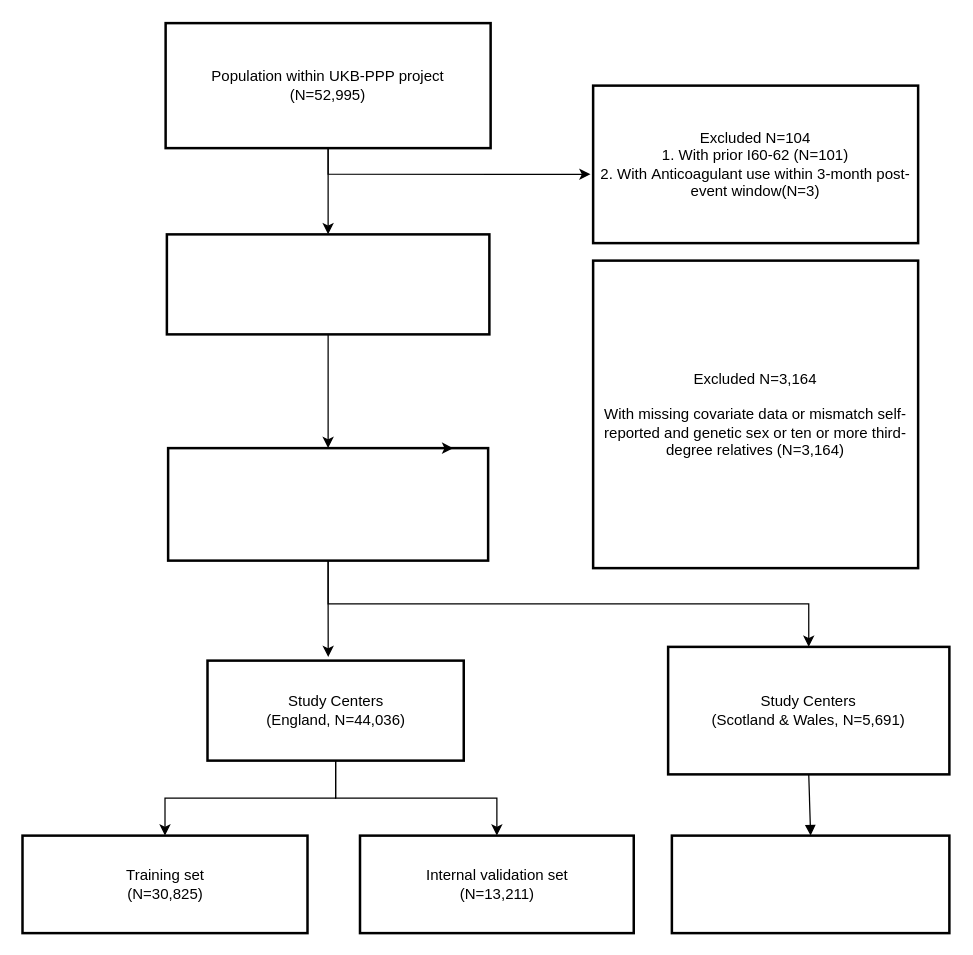
This 973x955 diagram has some shape labels left out. Each missing label, with the box of its shape:
External validation set (N=5,691): (670, 834, 950, 934)
N=52,891: (165, 232, 490, 335)
Population in final analyses (N=49,727): (166, 446, 489, 561)
